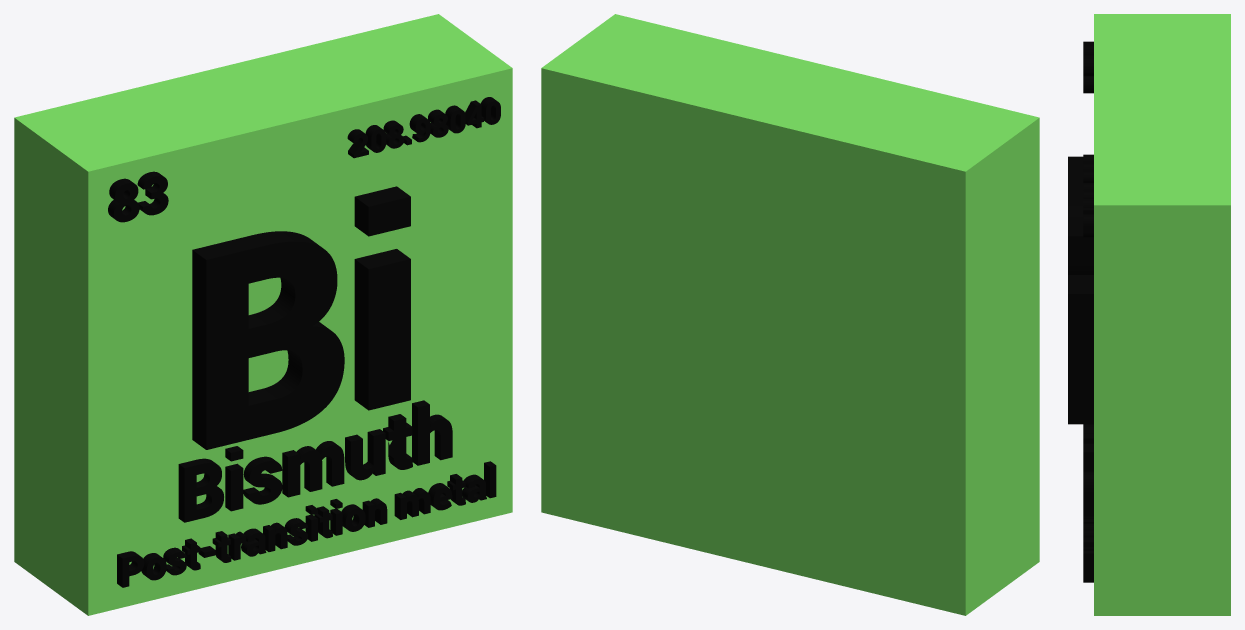
The picture shows the model from 3 angles, left to right: view 1: azimuth 30°, elevation 25°; view 2: azimuth 150°, elevation 25°; view 3: azimuth 270°, elevation 25°; orthographic projection. The views are drawn at different scales.
Visible parts, largest first — view 1: Cube, Text, Text.001, Text.002, Text.004, Text.003; view 2: Cube; view 3: Cube, Text, Text.001, Text.004, Text.002, Text.003.
Part boxes in pixels (x1,y1,x2,y2): Cube: [14, 14, 512, 615]; Text: [192, 186, 410, 449]; Text.001: [178, 400, 452, 522]; Text.002: [117, 461, 496, 587]; Text.004: [347, 97, 500, 158]; Text.003: [108, 171, 168, 222]; Cube: [541, 14, 1039, 615]; Cube: [1094, 14, 1230, 615]; Text: [1068, 156, 1093, 424]; Text.001: [1083, 424, 1093, 516]; Text.004: [1083, 154, 1093, 237]; Text.002: [1083, 516, 1093, 582]; Text.003: [1083, 41, 1093, 93].
Size of the model in its own units: 178 by 178 by 63.95.
